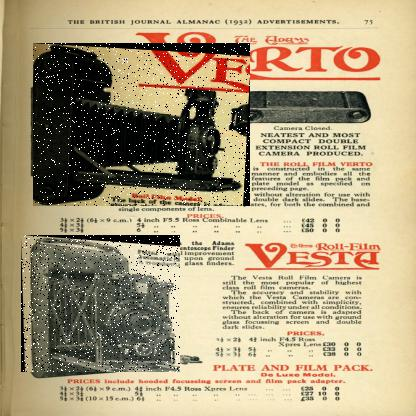Camera: (34, 44, 252, 208), (22, 236, 182, 374)
